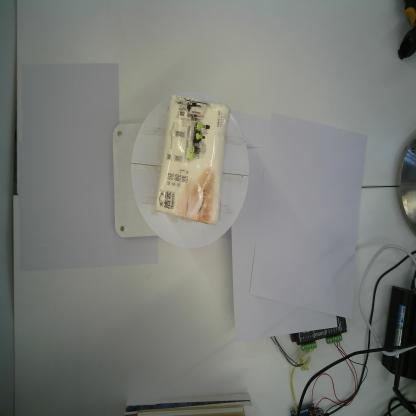Tissue: (155, 93, 231, 226)
